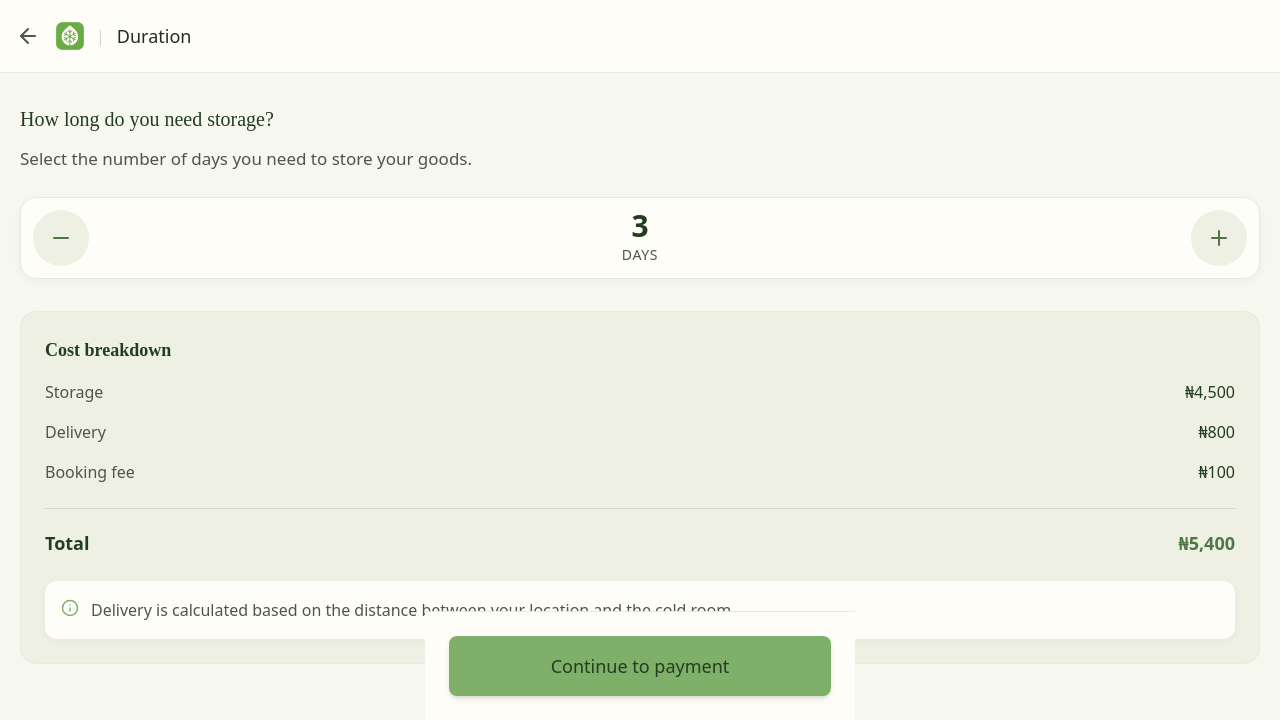
Test case: Duration screen › adds ₦1,500 to storage and total for each extra day
Click the button named "Add a day": click(1219, 238) [1191,210,1247,266]
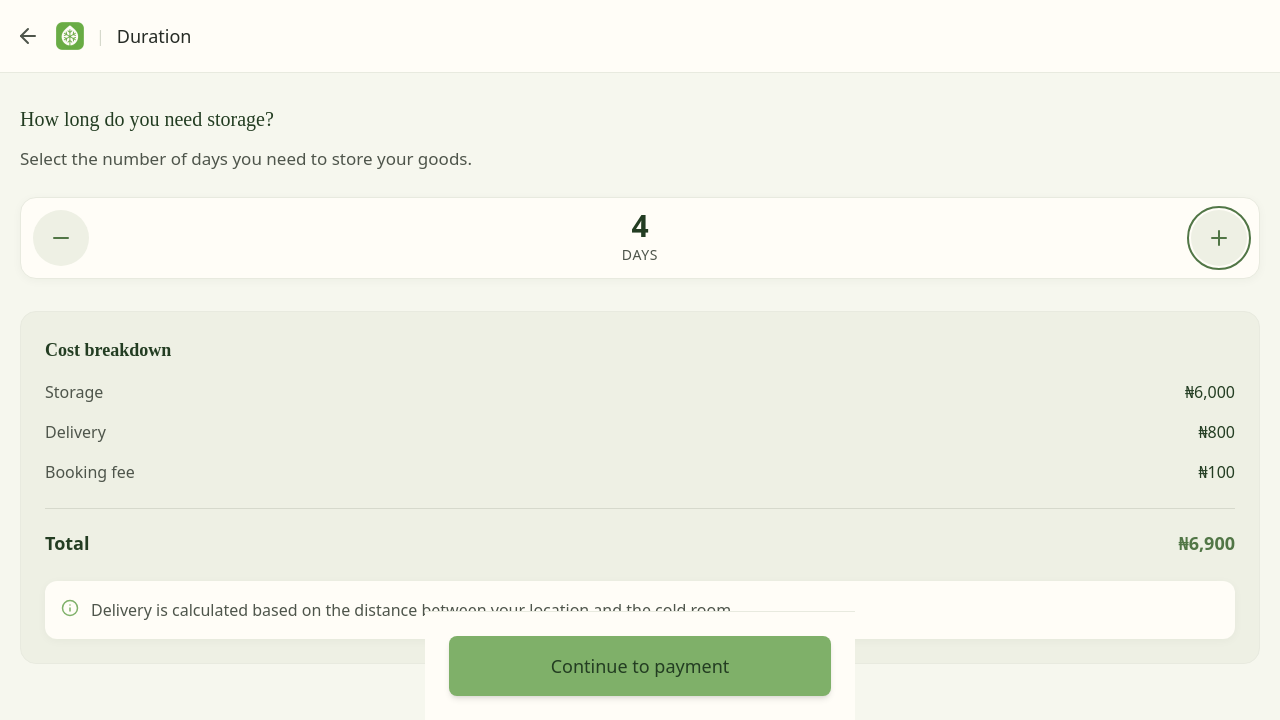
Expected: the text "₦6,000" is shown, [1185,380,1235,404]
Expected: the text "₦6,900" is shown, [1178,529,1235,557]
Click the button named "Add a day": click(1219, 238) [1191,210,1247,266]
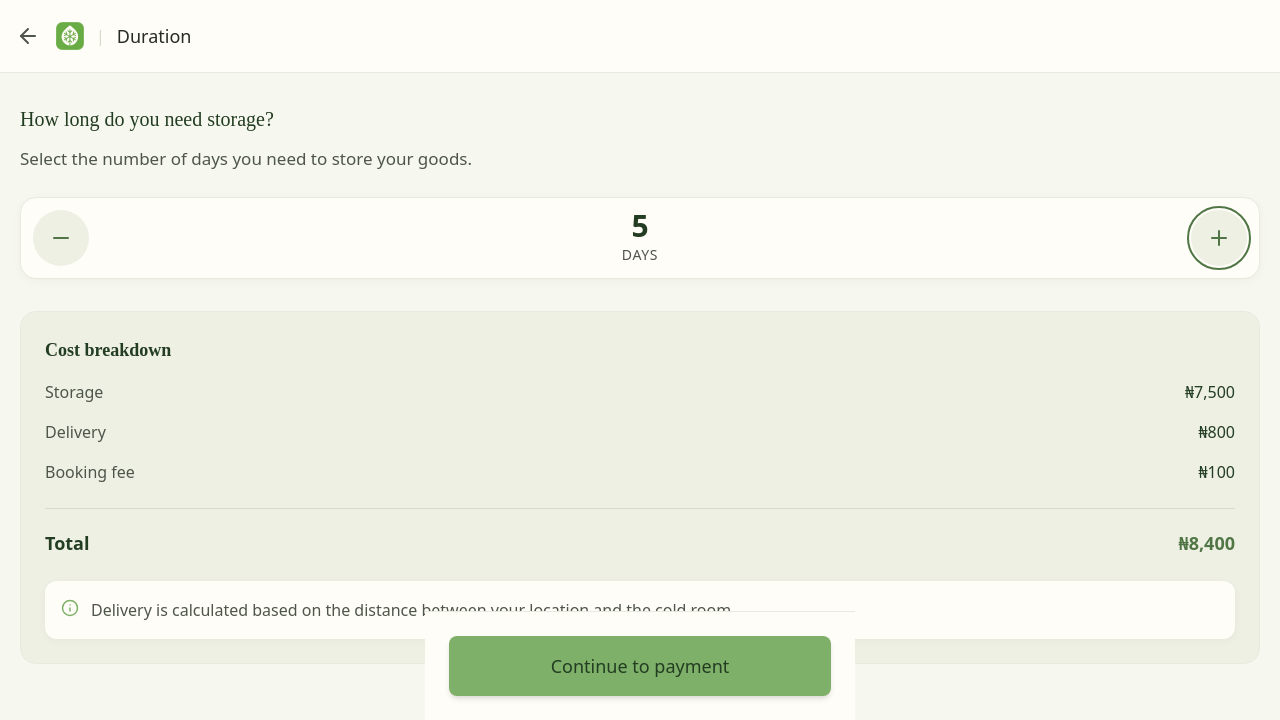
Expected: the text "₦7,500" is shown, [1185,380,1235,404]
Expected: the text "₦8,400" is shown, [1178,529,1235,557]
